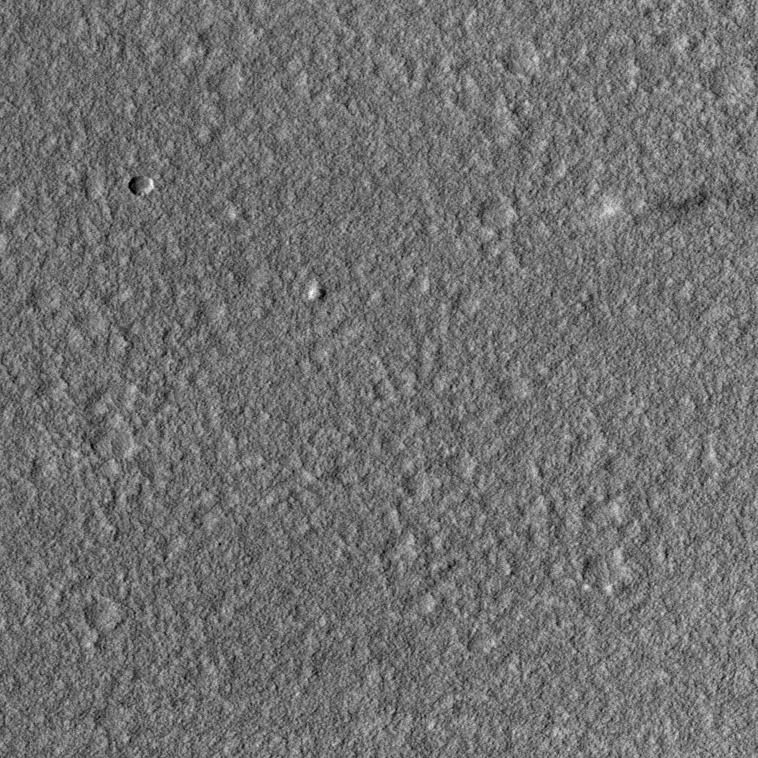dust_devil: (598, 185, 714, 224)
